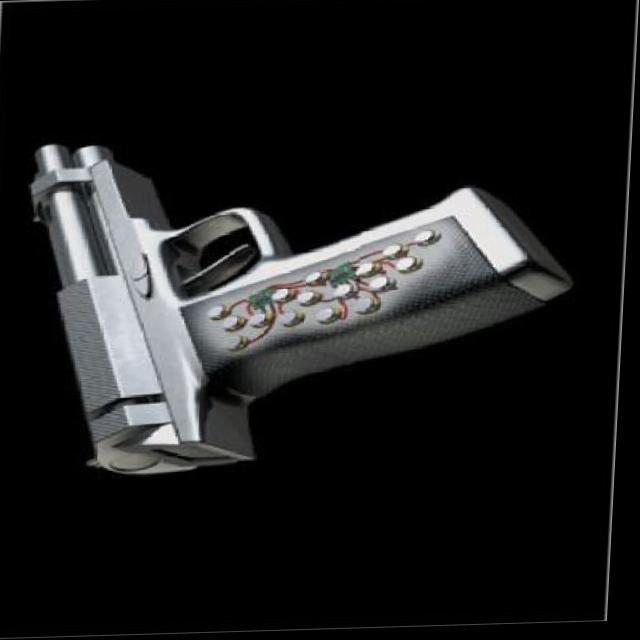handgun: (19, 131, 581, 478)
